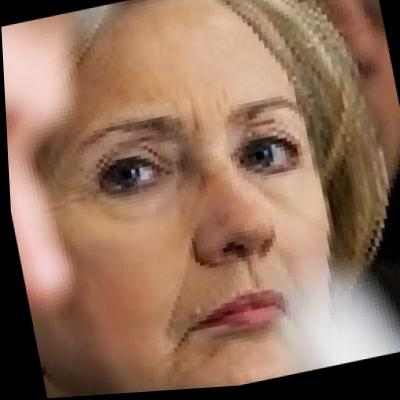sad: (11, 0, 350, 399)
